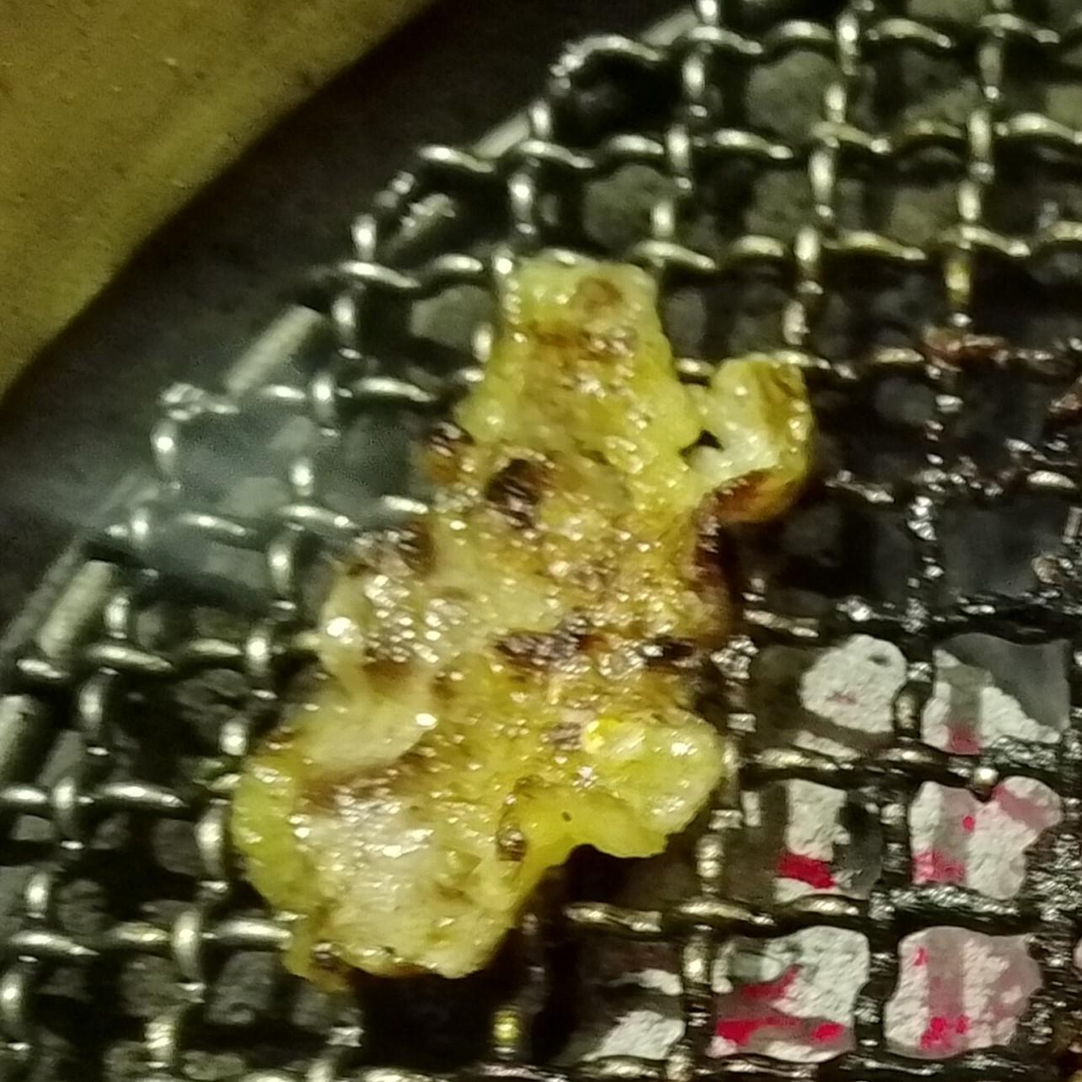Overcooked: (228, 250, 813, 989)
